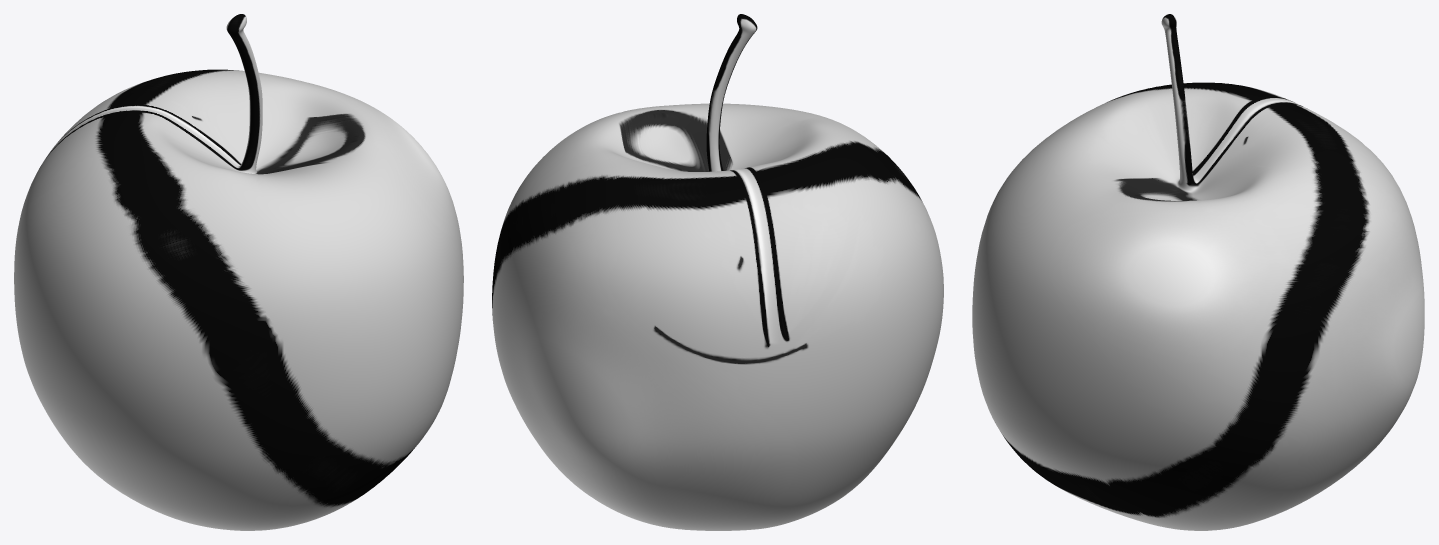
File: apel.fbx
3 views of the same model, side by side, from view 1: azimuth 30°, elevation 25°; view 2: azimuth 150°, elevation 25°; view 3: azimuth 270°, elevation 25° (orthographic). The views are drawn at different scales.
Parts seen in each view (by area): view 1: 10162_Apple_v1; view 2: 10162_Apple_v1; view 3: 10162_Apple_v1.
Part boxes in pixels (x1,y1,x2,y2): 10162_Apple_v1: (14,14,463,530); 10162_Apple_v1: (492,14,943,530); 10162_Apple_v1: (972,14,1424,530).
Bounding box in the file's own units: 546 × 644 × 550.
Materials: 1 (1 with a texture image).
